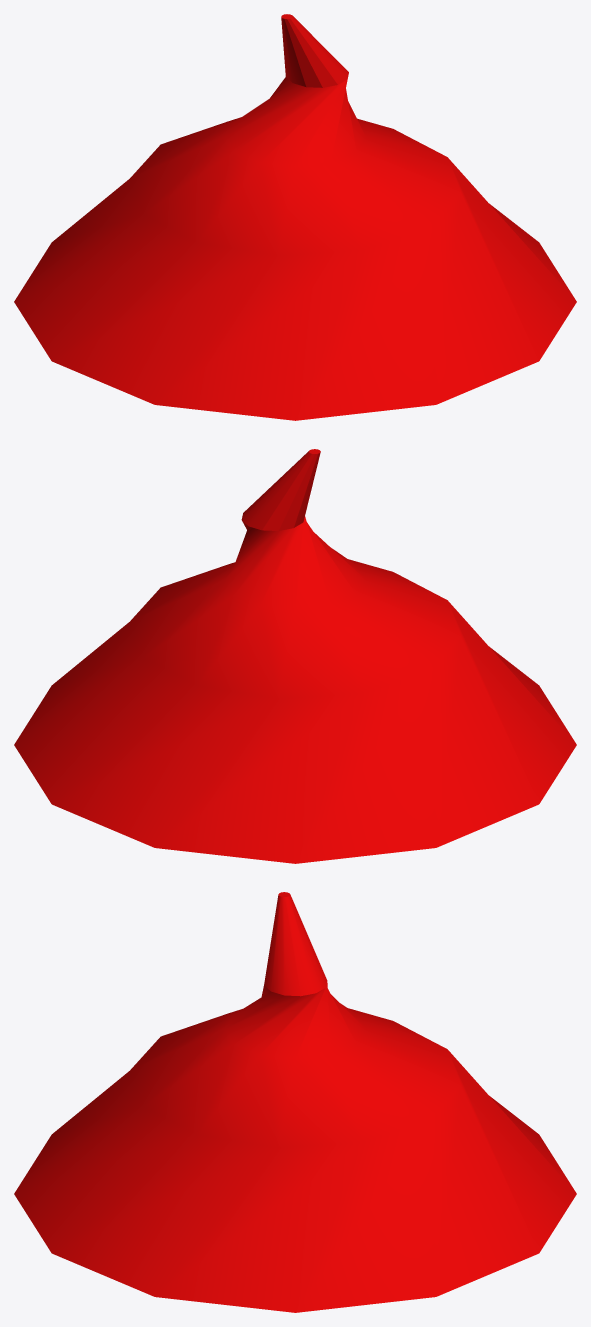
The model's file is Asset_TinFoilHat.glb.
3 renders of one model, top to bottom at view 1: azimuth 30°, elevation 25°; view 2: azimuth 150°, elevation 25°; view 3: azimuth 270°, elevation 25°, orthographic.
Parts seen in each view (by area): view 1: Asset_TinFoilHat; view 2: Asset_TinFoilHat; view 3: Asset_TinFoilHat.
Boxes of the visible parts, x1,y1,x2,y2 form: Asset_TinFoilHat: [14, 14, 576, 420]; Asset_TinFoilHat: [14, 449, 576, 863]; Asset_TinFoilHat: [14, 892, 576, 1312].
Size of the model in its own units: 40.56 by 23.26 by 40.56.
